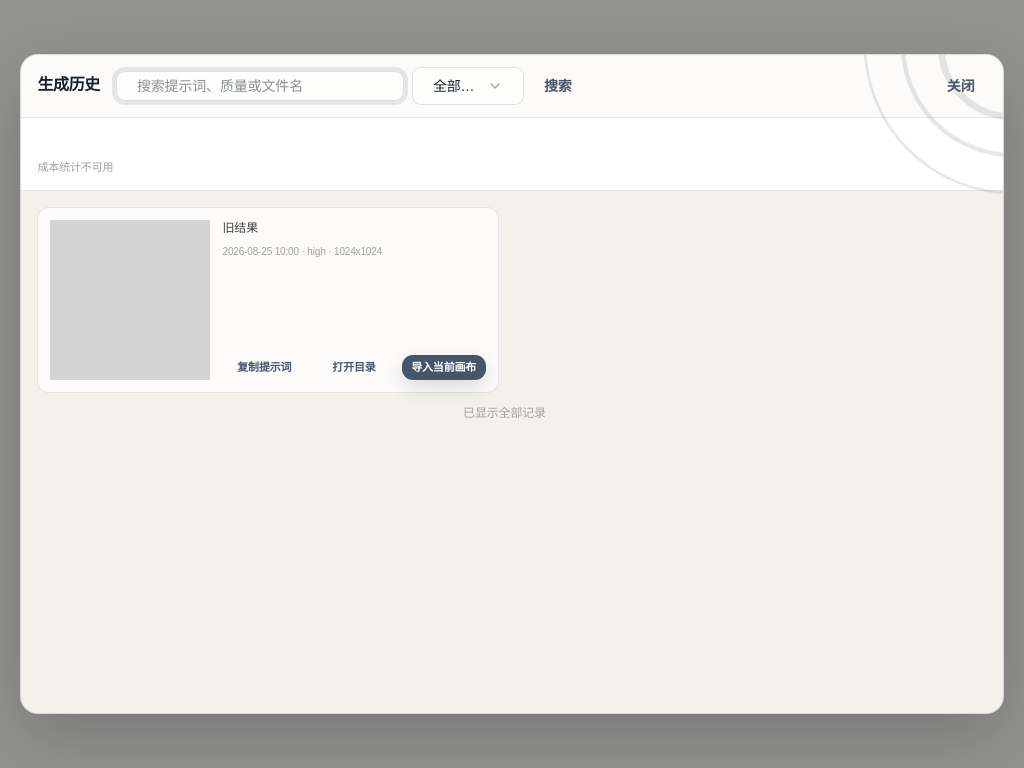
Scenario: HistoryGallery 分页（滚动加载） › 搜索重置分页：重新从第 0 页拉取，不保留旧页数据
Expected: the text "旧结果" is shown, [222,221,258,235]
In the field with placeholder "搜索提示词、质量或文件名": (260, 86) [116,71,404,101], type "喵"
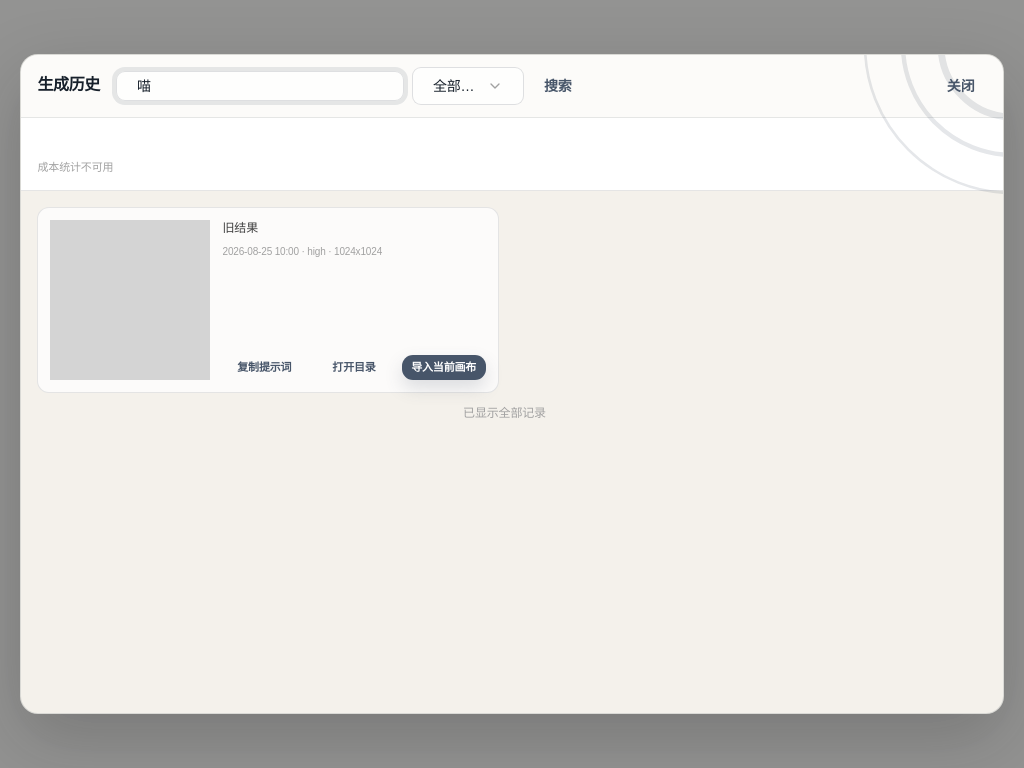
Press Enter in the field with placeholder "搜索提示词、质量或文件名", box [116,71,404,101]
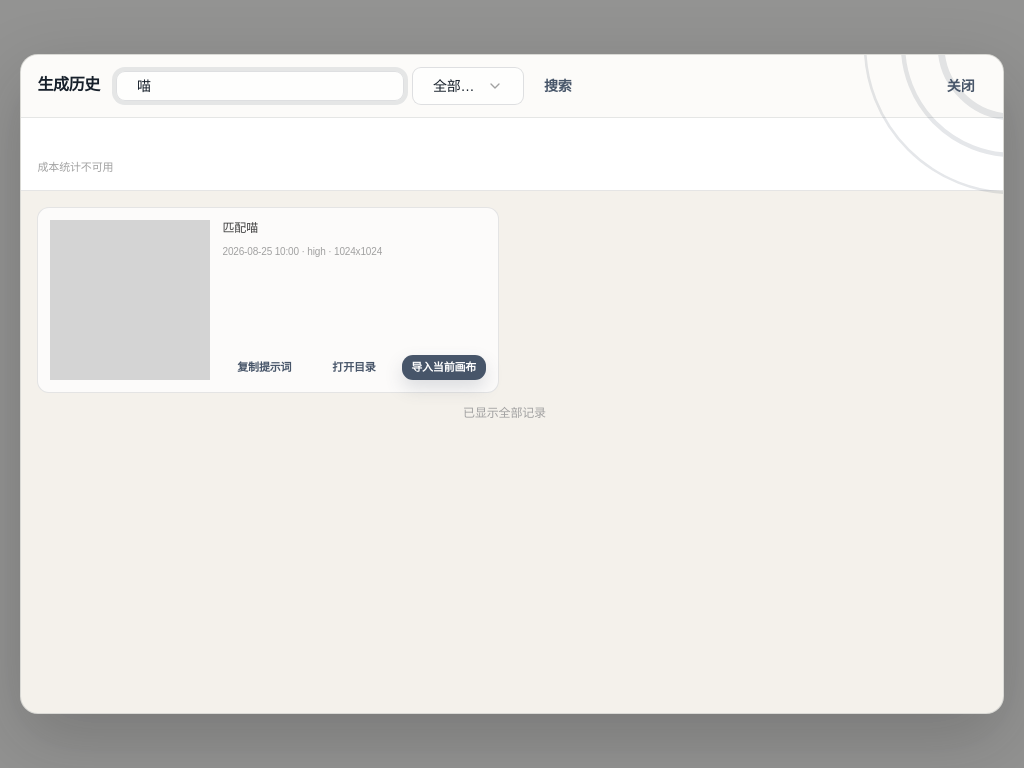
Expected: the text "匹配喵" is shown, [222,221,258,235]
Expected: the text "旧结果" is gone
